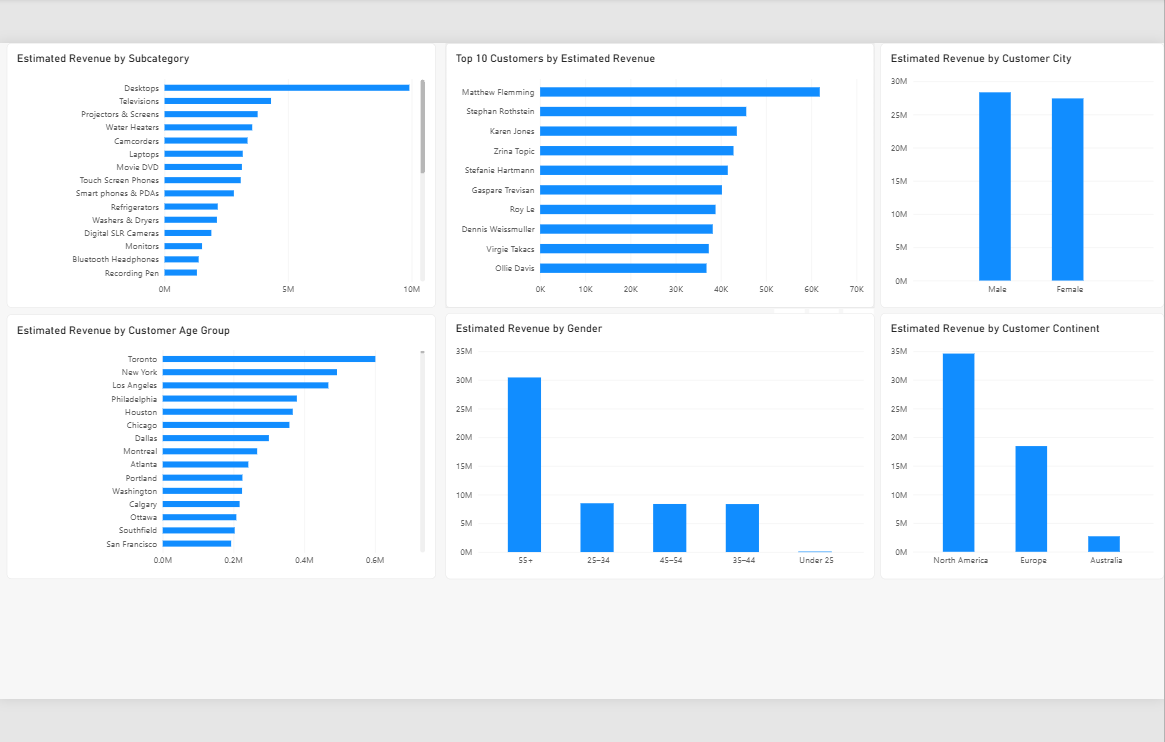

Layout of this report page (visuals, bound fields, positions):
{"tool":"powerbi","page":{"name":"Product & Customer Insights","canvas":[1920,1080],"ordinal":2},"visuals":[{"type":"clusteredBarChart","title":"Estimated Revenue by Subcategory","fields":{"Category":["Products.Subcategory"],"Y":["Sales.Total Revenue USD"]},"box":[14.4,0,706,436.4],"z":0},{"type":"clusteredBarChart","title":"Top 10 Customers by Estimated Revenue","fields":{"Category":["Customers.Name"],"Y":["Sales.Total Revenue USD"]},"box":[736.9,0,706,436],"z":1},{"type":"clusteredBarChart","title":"Estimated Revenue by Customer Age Group","fields":{"Category":["Customers.City"],"Y":["Sales.Total Revenue USD"]},"box":[14,446,706,436],"z":2},{"type":"clusteredColumnChart","title":"Estimated Revenue by Gender","fields":{"Category":["Customers.Age Group"],"Y":["Sales.Total Revenue USD"]},"box":[736.9,444.6,706,438.4],"z":3},{"type":"clusteredColumnChart","title":"Estimated Revenue by Customer City","fields":{"Category":["Customers.Gender"],"Y":["Sales.Total Revenue USD"]},"box":[1453,0,467,436],"z":4},{"type":"clusteredColumnChart","title":"Estimated Revenue by Customer Continent","fields":{"Category":["Customers.Continent"],"Y":["Sales.Total Revenue USD"]},"box":[1453,445,467,438],"z":5}]}

Visuals, with their boxes on the page's 1920x1080 design canvas (x1, y1, x2, y2). These are canvas units, not pixel positions in the 1165x742 screenshot, which may show the page scaled, cropped or inside an application window:
"Estimated Revenue by Subcategory" clusteredBarChart: x1=14, y1=0, x2=720, y2=436
"Top 10 Customers by Estimated Revenue" clusteredBarChart: x1=737, y1=0, x2=1443, y2=436
"Estimated Revenue by Customer Age Group" clusteredBarChart: x1=14, y1=446, x2=720, y2=882
"Estimated Revenue by Gender" clusteredColumnChart: x1=737, y1=445, x2=1443, y2=883
"Estimated Revenue by Customer City" clusteredColumnChart: x1=1453, y1=0, x2=1920, y2=436
"Estimated Revenue by Customer Continent" clusteredColumnChart: x1=1453, y1=445, x2=1920, y2=883
